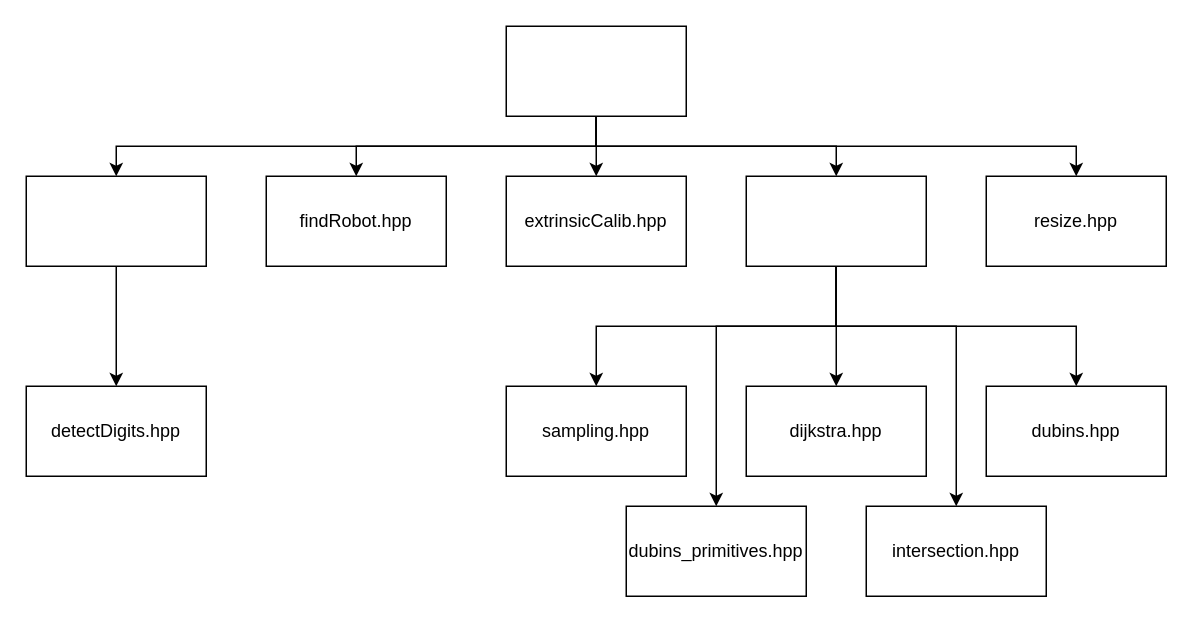
Image size: 1193x623. Some labels were removed from this diagram. Each missing label, with the centre of its shape:
processMap.hpp: (115,220)
sbmp.hpp: (835,220)
student_interface.cpp: (595,70)
